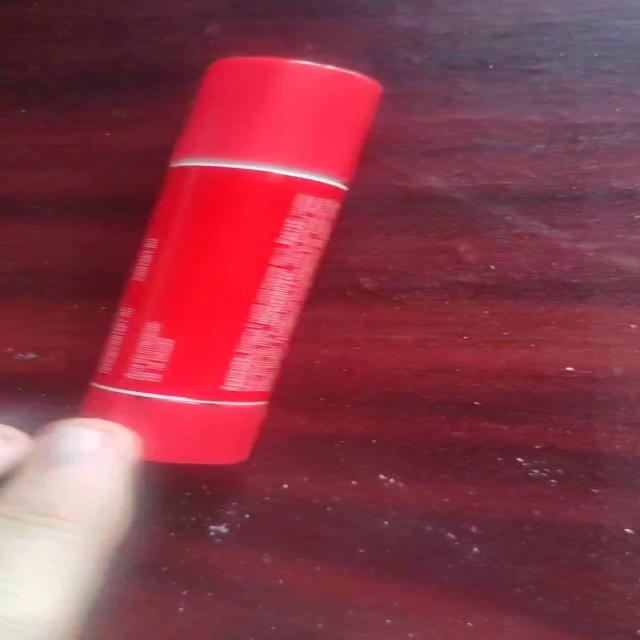glue: (70, 54, 383, 466)
